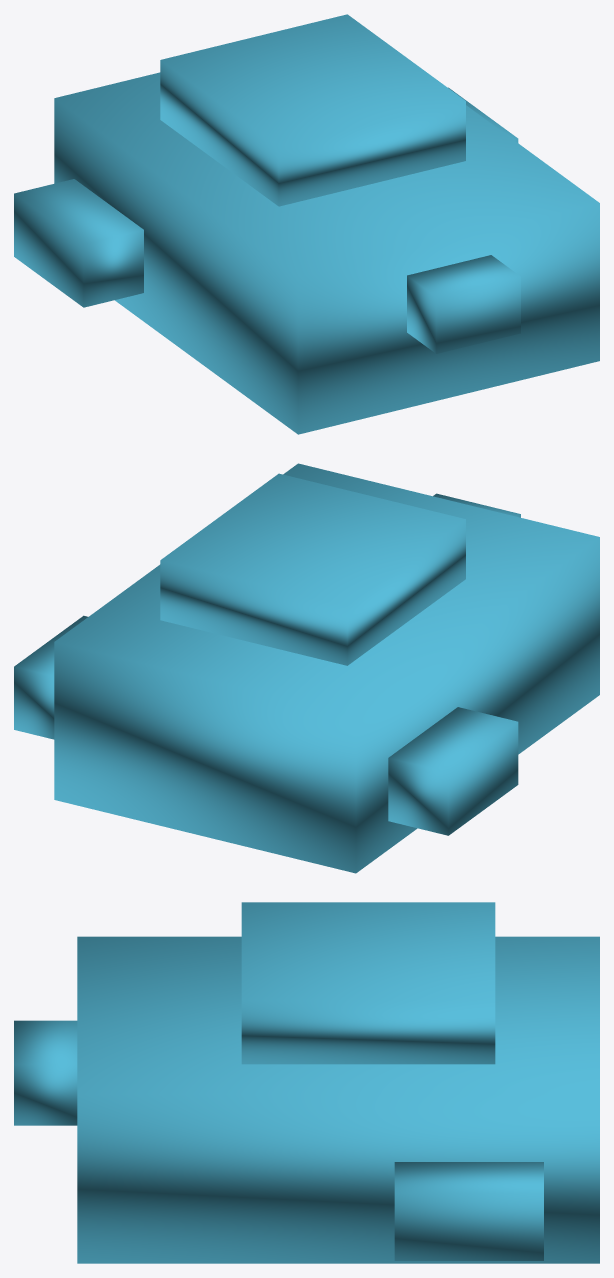
Rendered from robot.glb.
The picture shows the model from 3 angles, top to bottom: view 1: azimuth 30°, elevation 25°; view 2: azimuth 150°, elevation 25°; view 3: azimuth 270°, elevation 25°; orthographic projection. The views are drawn at different scales.
Parts seen in each view (by area): view 1: Hull, Deck, Starboard thruster, Camera; view 2: Hull, Deck, Starboard thruster, Port thruster; view 3: Hull, Deck, Port thruster, Camera.
Part boxes in pixels (x1=…): Hull: x1=54, y1=72, x2=599, y2=434; Deck: x1=160, y1=14, x2=465, y2=206; Starboard thruster: x1=14, y1=179, x2=143, y2=307; Camera: x1=407, y1=255, x2=520, y2=353; Hull: x1=54, y1=463, x2=599, y2=873; Deck: x1=160, y1=473, x2=465, y2=665; Starboard thruster: x1=388, y1=707, x2=518, y2=835; Port thruster: x1=14, y1=615, x2=87, y2=739; Hull: x1=77, y1=936, x2=599, y2=1263; Deck: x1=241, y1=902, x2=495, y2=1064; Port thruster: x1=394, y1=1162, x2=543, y2=1260; Camera: x1=14, y1=1020, x2=77, y2=1125.
Size of the model in its own units: 1.44 by 0.69 by 1.57.
